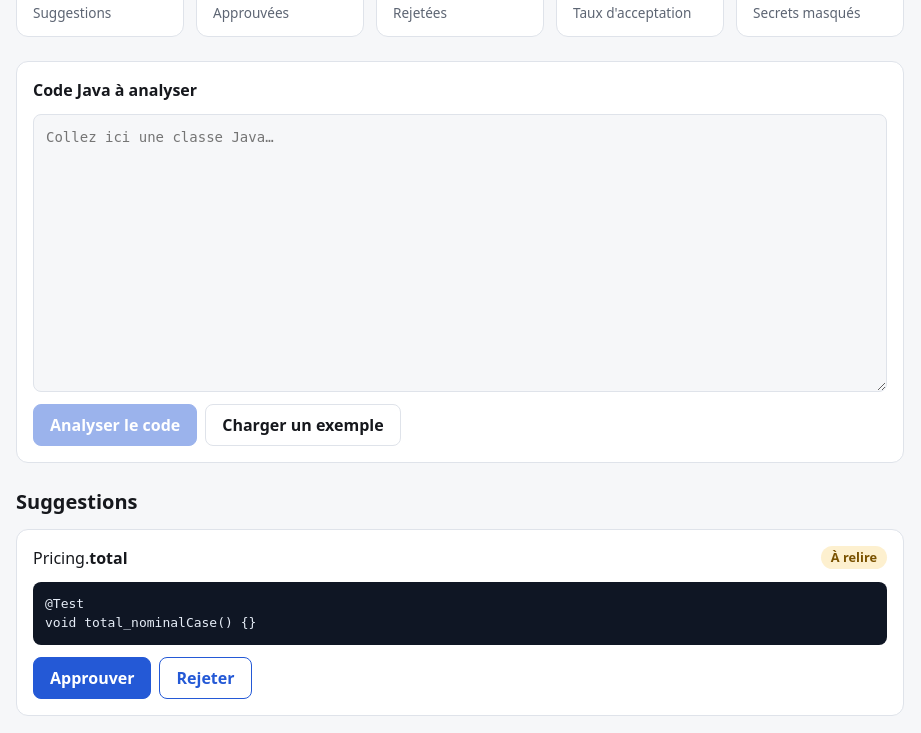
Scenario: App › approuve une suggestion : badge mis à jour, boutons désactivés, taux affiché
This screenshot has width=921, height=733.
(page scrolled)
Click the button "Approuver": (92, 678) x1=33 y1=657 x2=152 y2=699
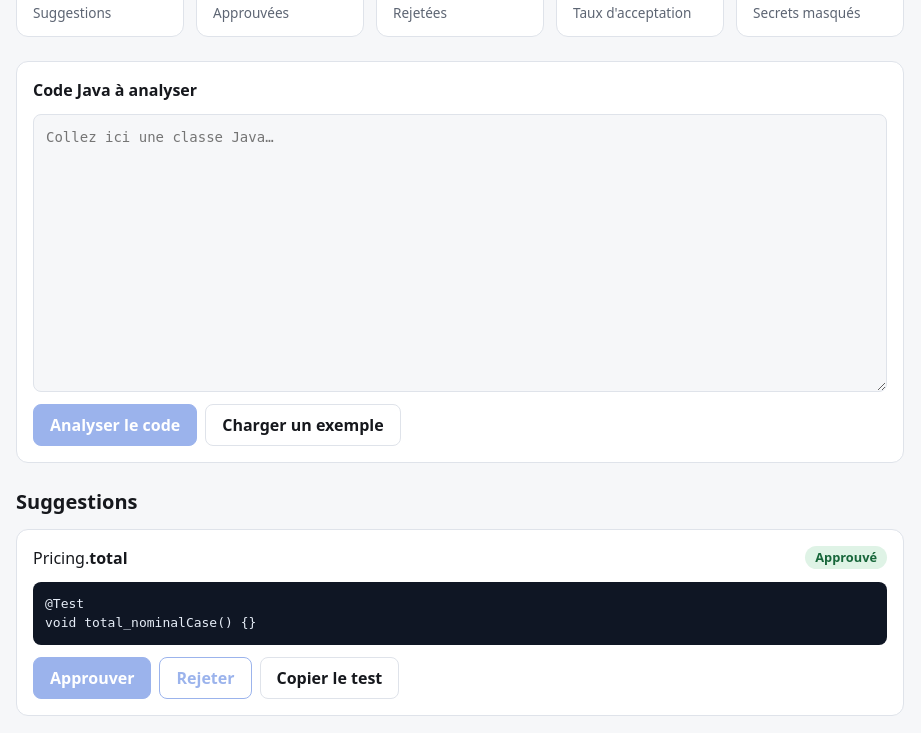
Now the text "Approuvé" is shown, box x1=805 y1=546 x2=887 y2=569
Now the button "Approuver" is disabled, box x1=33 y1=657 x2=152 y2=699
Now the button "Rejeter" is disabled, box x1=160 y1=657 x2=252 y2=699
